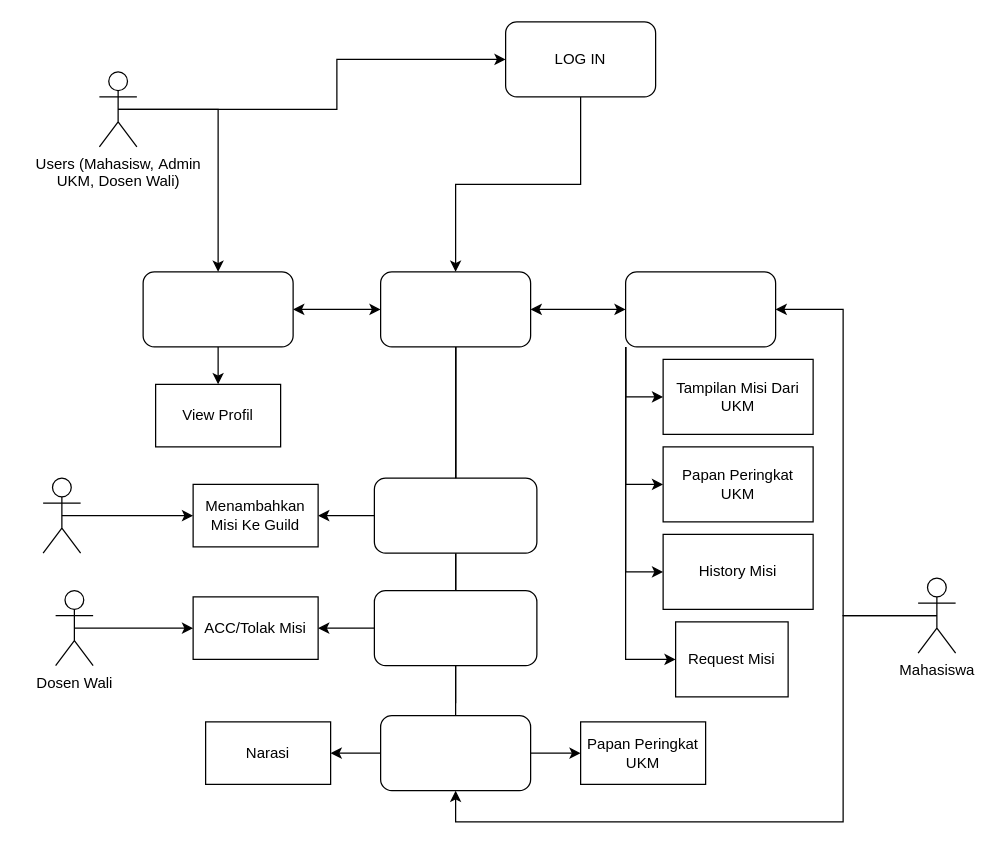
This 995x854 diagram has some shape labels left out. Here are the shapes that lost their labels. From the top down, the centre of each, then its label:
At point 217,309: "Profil".
At point 455,309: "Home".
At point 700,309: "Misi".
At point 61,515: "Admin UKM".
At point 455,515: "Home Admin UKM".
At point 455,627: "Home Dosen Wali".
At point 455,752: "Home Mahasiswa".
